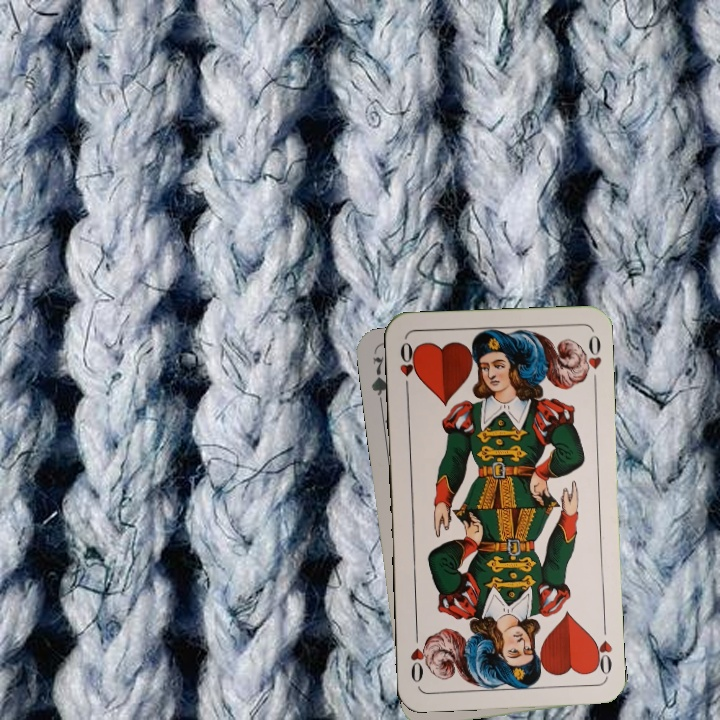G7: (367, 353, 391, 413)
HO: (588, 620, 615, 679), (395, 338, 420, 396)
